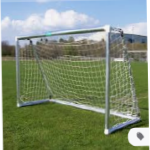goals: (12, 24, 141, 135)
